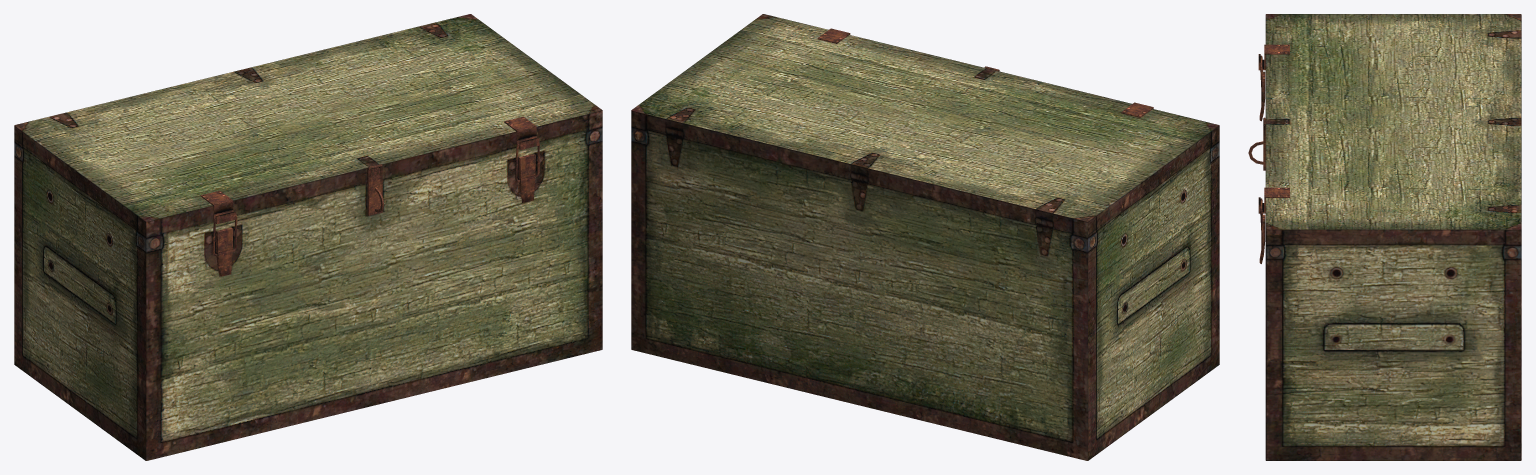
The model's file is VV_FootLocker.fbx.
The picture shows the model from 3 angles, left to right: view 1: azimuth 30°, elevation 25°; view 2: azimuth 150°, elevation 25°; view 3: azimuth 270°, elevation 25°; orthographic projection. The views are drawn at different scales.
Visible parts, largest first — view 1: VV_FootLocker; view 2: VV_FootLocker; view 3: VV_FootLocker.
Boxes of the visible parts, <box> form: VV_FootLocker: <box>14,14,602,460</box>; VV_FootLocker: <box>631,14,1219,460</box>; VV_FootLocker: <box>1248,14,1521,460</box>.
Size of the model in its own units: 126 by 63.38 by 67.48.
1 material, 1 textured.
